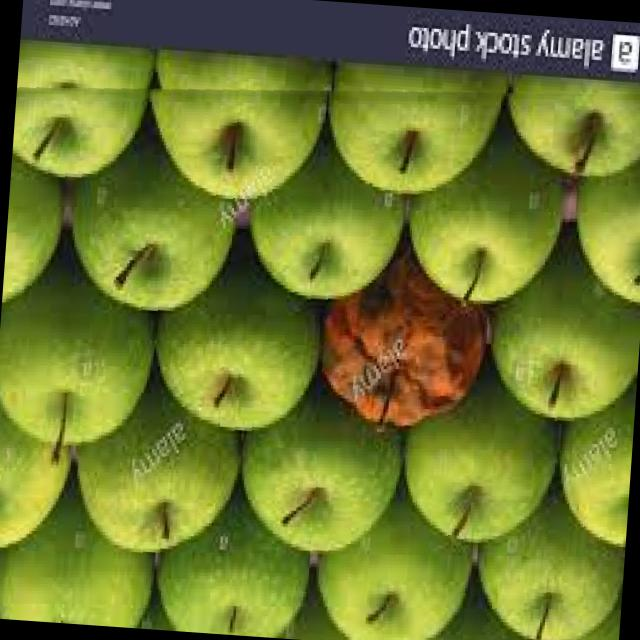Organic: (0, 48, 640, 640), (322, 256, 490, 424)
